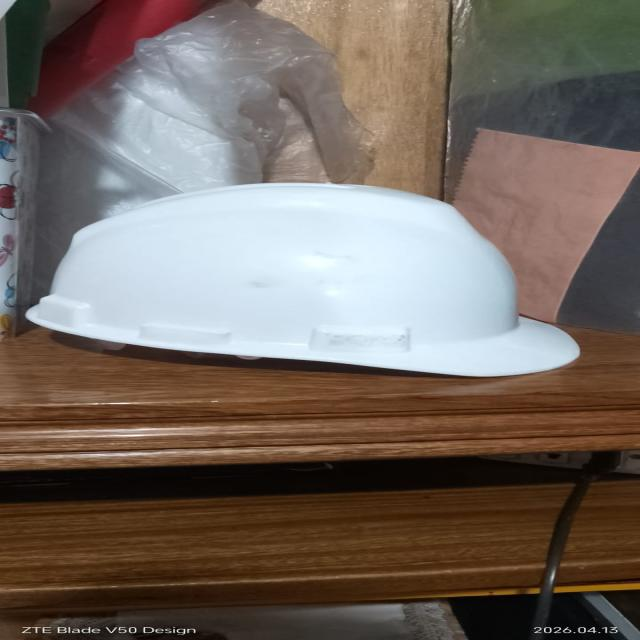sin_casco: (30, 172, 628, 386)
